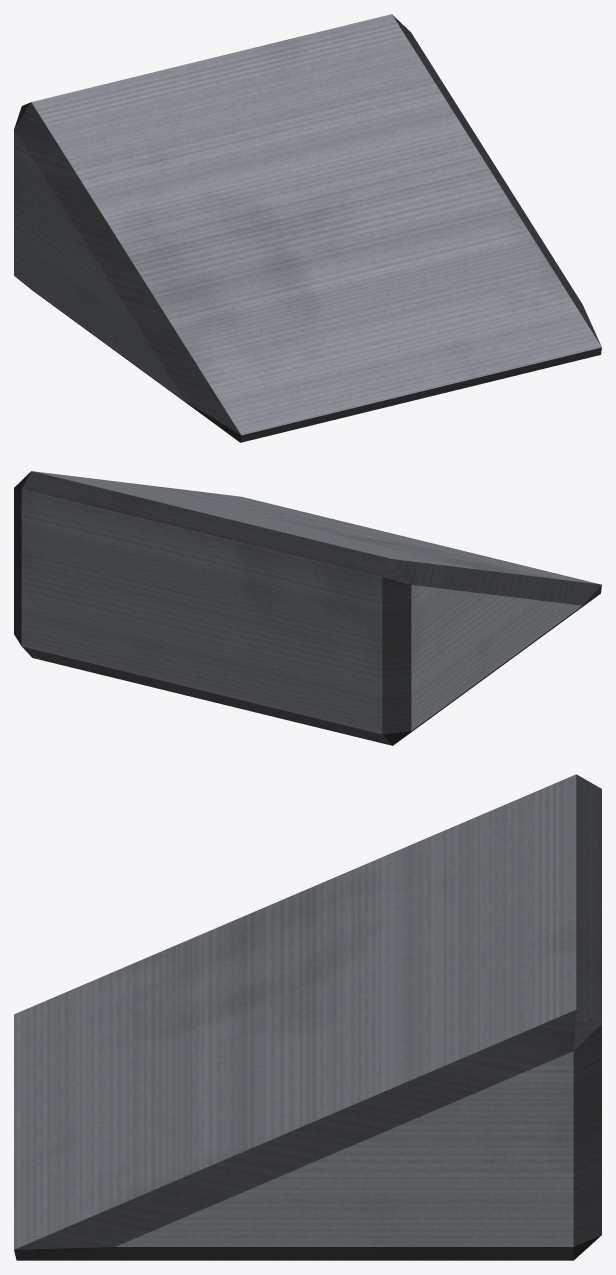
File: R4B_HalfWedge_LOD1.glb
3 renders of one model, top to bottom at view 1: azimuth 30°, elevation 25°; view 2: azimuth 150°, elevation 25°; view 3: azimuth 270°, elevation 25°, orthographic. The views are drawn at different scales.
Parts seen in each view (by area): view 1: R4B_HalfWedge_LOD1; view 2: R4B_HalfWedge_LOD1; view 3: R4B_HalfWedge_LOD1.
Part boxes in pixels (x1,y1,x2,y2): R4B_HalfWedge_LOD1: [14, 14, 601, 442]; R4B_HalfWedge_LOD1: [14, 471, 601, 745]; R4B_HalfWedge_LOD1: [14, 774, 601, 1260].
Size of the model in its own units: 0.52 by 0.2348 by 0.4983.
2 materials, 2 textured.
